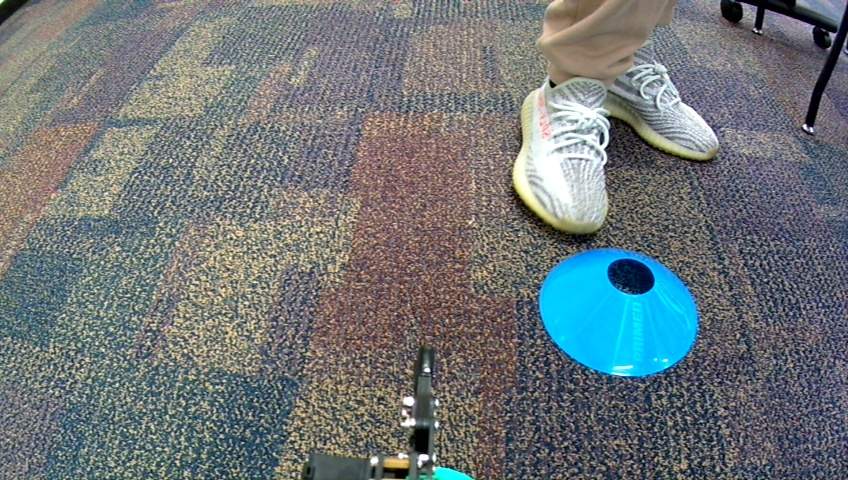cone: (538, 245, 702, 378)
